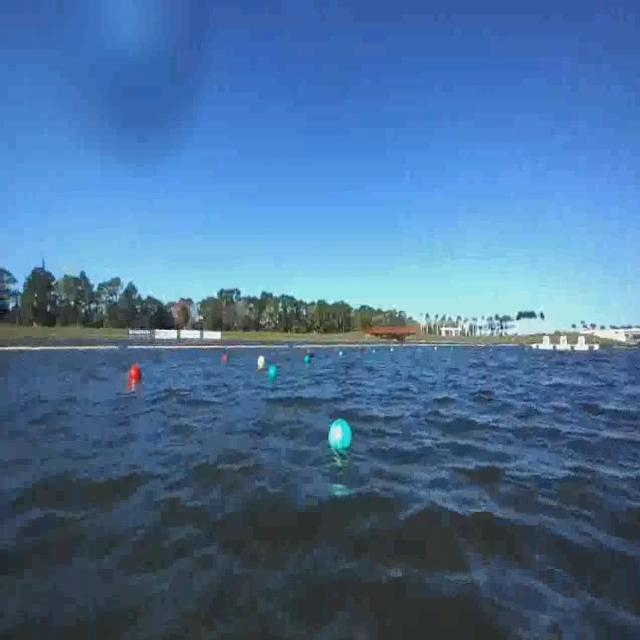green-buoy: (330, 419, 353, 452), (269, 364, 278, 379)
red-buoy: (130, 364, 143, 381)
